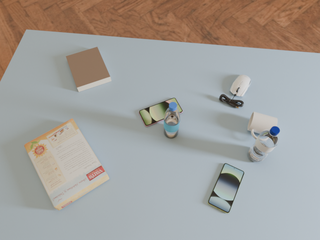book: (66, 47, 111, 92)
bottle: (248, 126, 280, 162), (164, 102, 180, 138)
box: (24, 119, 109, 210)
cup: (248, 112, 277, 139)
mouse: (230, 75, 251, 97)
phone: (208, 163, 244, 213), (139, 98, 183, 127)
